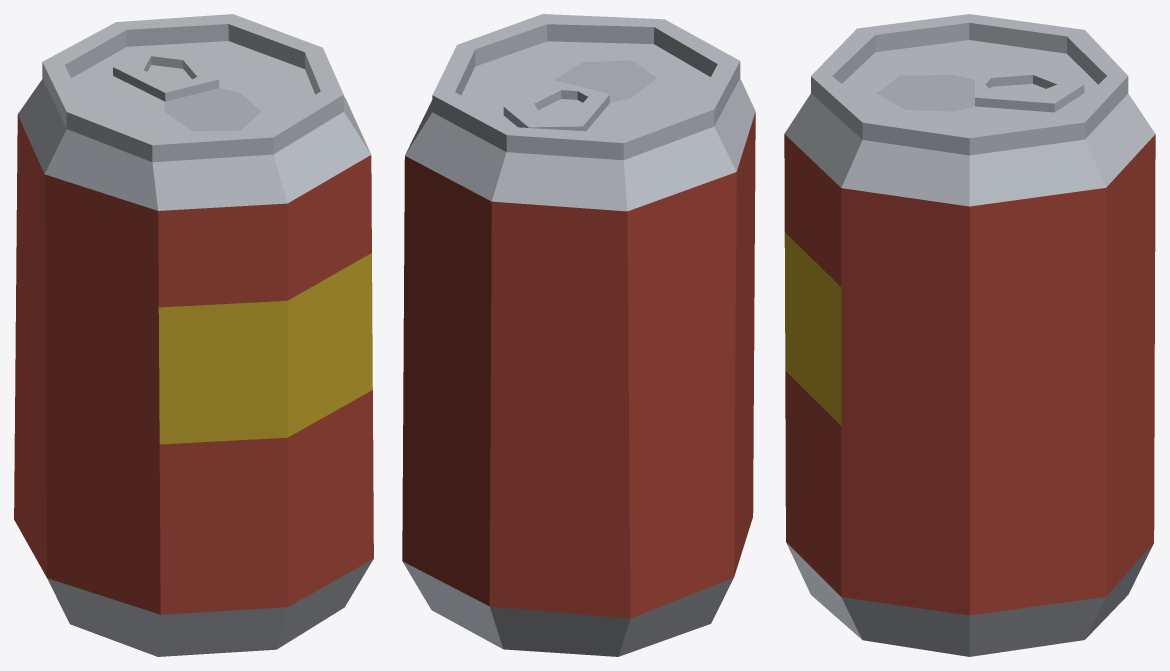
File: SM_Prop_Soda_Can_01.fbx
3 views of the same model, side by side, from view 1: azimuth 30°, elevation 25°; view 2: azimuth 150°, elevation 25°; view 3: azimuth 270°, elevation 25° (orthographic).
Visible parts, largest first — view 1: SM_Prop_Soda_Can_01; view 2: SM_Prop_Soda_Can_01; view 3: SM_Prop_Soda_Can_01.
Part boxes in pixels (x1,y1,x2,y2): SM_Prop_Soda_Can_01: [14, 14, 373, 656]; SM_Prop_Soda_Can_01: [402, 14, 755, 656]; SM_Prop_Soda_Can_01: [784, 14, 1155, 656].
Size of the model in its own units: 8.91 by 14.42 by 9.35.
